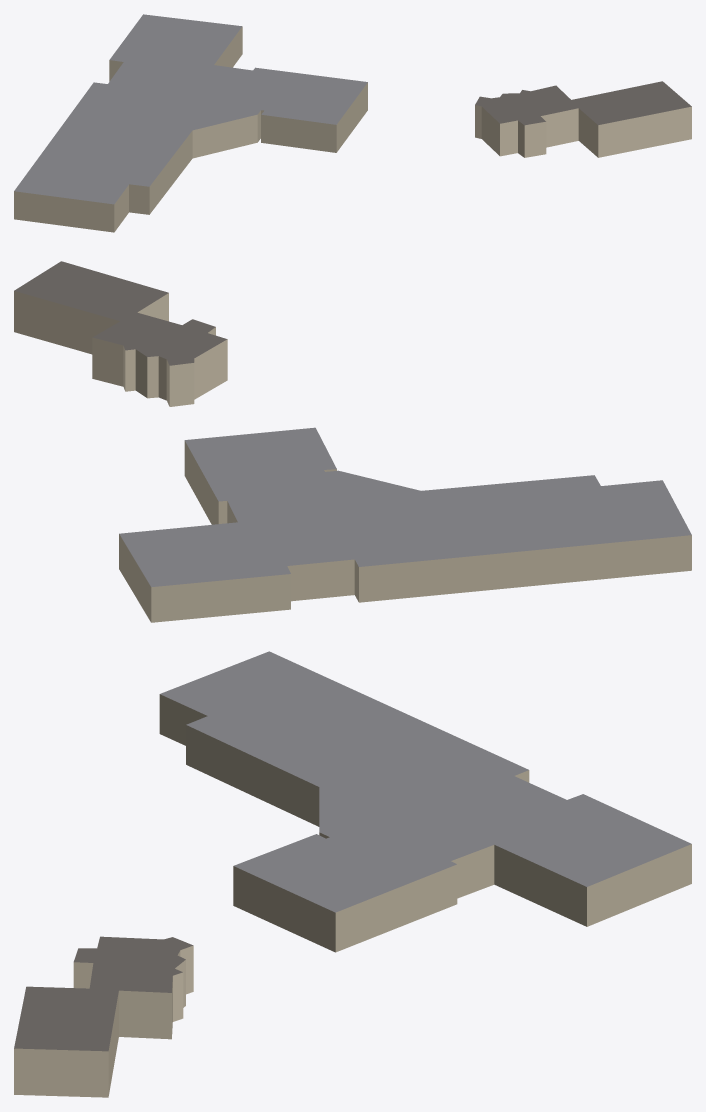
3 views of the same model, one above another, from view 1: azimuth 30°, elevation 25°; view 2: azimuth 150°, elevation 25°; view 3: azimuth 270°, elevation 25° (orthographic). The views are drawn at different scales.
Visible parts, largest first — view 1: tuile; view 2: tuile; view 3: tuile.
Boxes of the visible parts, x1=… form: tuile: x1=14, y1=14, x2=691, y2=232; tuile: x1=14, y1=261, x2=691, y2=622; tuile: x1=14, y1=651, x2=691, y2=1097.
Bounding box in the file's own units: 103 × 5.82 × 71.7.
